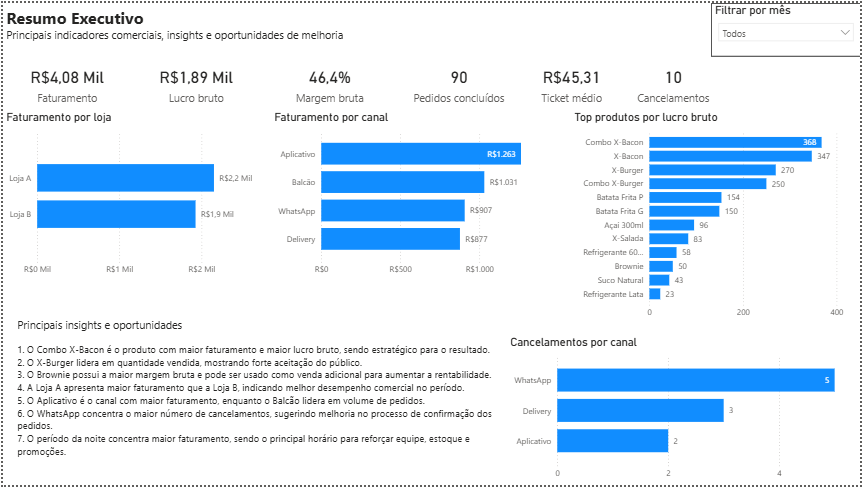

Layout of this report page (visuals, bound fields, positions):
{"tool":"powerbi","page":{"name":"Resumo Executivo","canvas":[1280,720],"ordinal":0},"visuals":[{"type":"textbox","box":[0,0,544,80],"z":1},{"type":"card","fields":{"Values":["Vendas.Faturamento"]},"box":[0,80,192,80],"z":2},{"type":"card","fields":{"Values":["Vendas.Lucro Bruto"]},"box":[192,80,192,80],"z":3},{"type":"card","fields":{"Values":["Vendas.Pedidos Concluídos"]},"box":[592,80,176,80],"z":4},{"type":"card","fields":{"Values":["Vendas.Margem Bruta %"]},"box":[384,80,208,80],"z":5},{"type":"card","fields":{"Values":["Vendas.Ticket Médio"]},"box":[768,80,160,80],"z":6},{"type":"card","fields":{"Values":["Vendas.Pedidos Cancelados"]},"box":[928,80,144,80],"z":7},{"type":"clusteredBarChart","title":"Faturamento por canal","fields":{"Category":["Vendas.Canal_Venda"],"Y":["Vendas.Faturamento"]},"box":[400,160,448,256],"z":8},{"type":"clusteredBarChart","title":"Faturamento por loja","fields":{"Category":["Vendas.Loja"],"Y":["Vendas.Faturamento"]},"box":[0,160,400,256],"z":9},{"type":"clusteredBarChart","title":"Top produtos por lucro bruto","fields":{"Category":["Produtos.Produto"],"Y":["Vendas.Lucro Bruto"]},"box":[848,160,416,320],"z":10},{"type":"clusteredBarChart","title":"Cancelamentos por canal","fields":{"Category":["Vendas.Canal_Venda"],"Y":["Vendas.Pedidos Cancelados"]},"box":[752,496,512,224],"z":11},{"type":"textbox","box":[16,464,720,240],"z":12},{"type":"slicer","title":"Filtrar por mês","fields":{"Values":["Calendario.Ano_Mes"]},"box":[1056,0,224,80],"z":13}]}

Visuals, with their boxes in screenshot pixels (x1, y1, x2, y2), scaled from the page's 1280x720 canvas onto the 864x488 screenshot:
textbox: select_region(0, 0, 367, 54)
card - Vendas.Faturamento: select_region(0, 54, 130, 108)
card - Vendas.Lucro Bruto: select_region(130, 54, 259, 108)
card - Vendas.Pedidos Concluídos: select_region(400, 54, 518, 108)
card - Vendas.Margem Bruta %: select_region(259, 54, 400, 108)
card - Vendas.Ticket Médio: select_region(518, 54, 626, 108)
card - Vendas.Pedidos Cancelados: select_region(626, 54, 724, 108)
"Faturamento por canal" clusteredBarChart: select_region(270, 108, 572, 282)
"Faturamento por loja" clusteredBarChart: select_region(0, 108, 270, 282)
"Top produtos por lucro bruto" clusteredBarChart: select_region(572, 108, 853, 325)
"Cancelamentos por canal" clusteredBarChart: select_region(508, 336, 853, 487)
textbox: select_region(11, 314, 497, 477)
"Filtrar por mês" slicer: select_region(713, 0, 863, 54)
